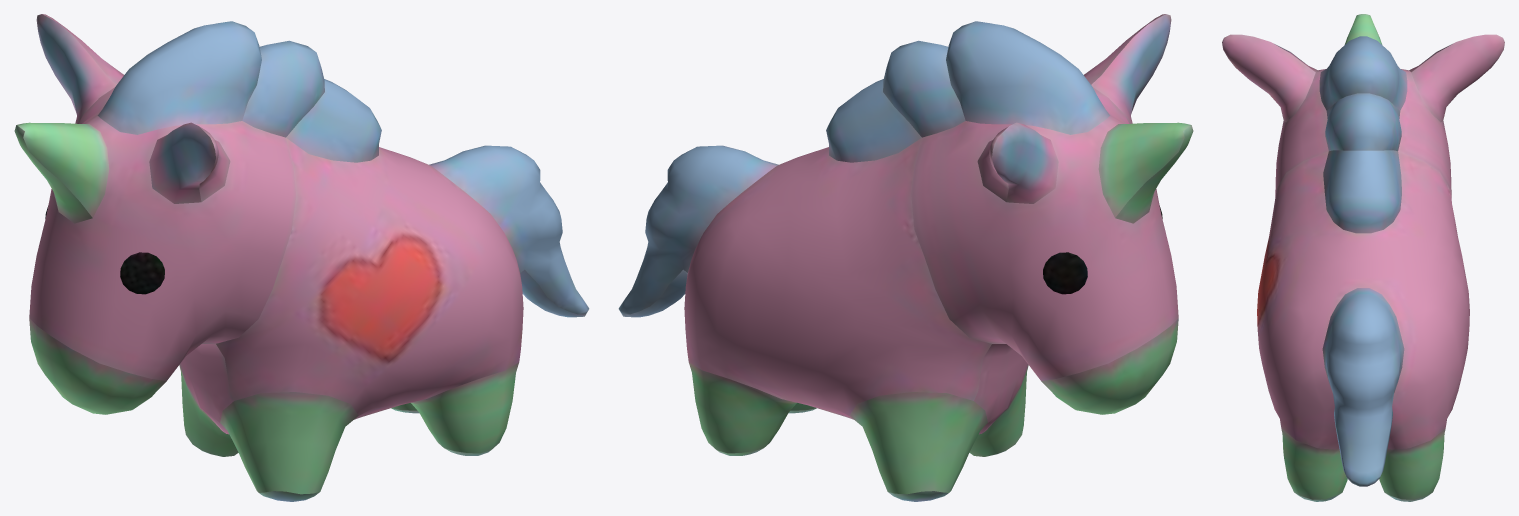
Rendered from unicorn.glb.
3 views of the same model, side by side, from view 1: azimuth 30°, elevation 25°; view 2: azimuth 150°, elevation 25°; view 3: azimuth 270°, elevation 25° (orthographic). The views are drawn at different scales.
Parts seen in each view (by area): view 1: Plush Unicorn_Plush Unicorn_0; view 2: Plush Unicorn_Plush Unicorn_0; view 3: Plush Unicorn_Plush Unicorn_0.
Boxes of the visible parts, x1,y1,x2,y2 form: Plush Unicorn_Plush Unicorn_0: [14, 14, 589, 501]; Plush Unicorn_Plush Unicorn_0: [618, 14, 1193, 501]; Plush Unicorn_Plush Unicorn_0: [1222, 14, 1504, 501].
Size of the model in its own units: 0.4233 by 0.3262 by 0.2304.
1 material, 1 textured.
